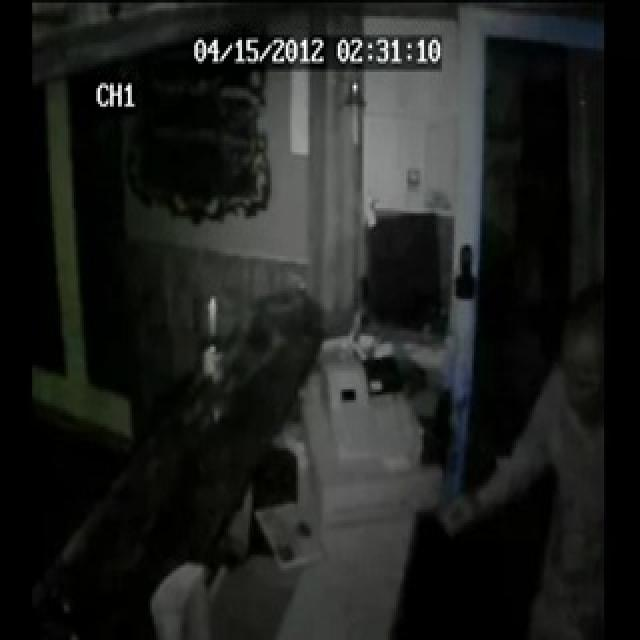thief: (537, 306, 614, 441)
